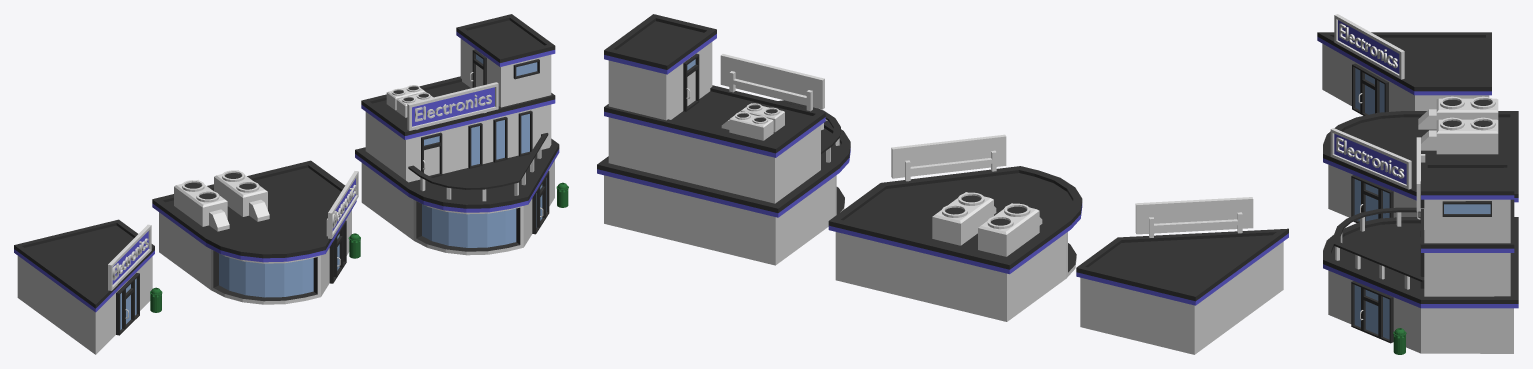
File: electronics.fbx
The picture shows the model from 3 angles, left to right: view 1: azimuth 30°, elevation 25°; view 2: azimuth 150°, elevation 25°; view 3: azimuth 270°, elevation 25°; orthographic projection. The views are drawn at different scales.
Parts seen in each view (by area): view 1: el3, el2, el1; view 2: el3, el2, el1; view 3: el3, el2, el1.
Boxes of the visible parts, x1,y1,x2,y2 form: el3: (355, 14, 568, 255); el2: (152, 160, 360, 304); el1: (14, 219, 162, 354); el3: (597, 14, 850, 265); el2: (828, 134, 1082, 321); el1: (1076, 197, 1288, 354); el3: (1323, 137, 1518, 354); el2: (1323, 96, 1518, 222); el1: (1317, 14, 1491, 115).
Size of the model in its own units: 2046 by 580 by 650.
